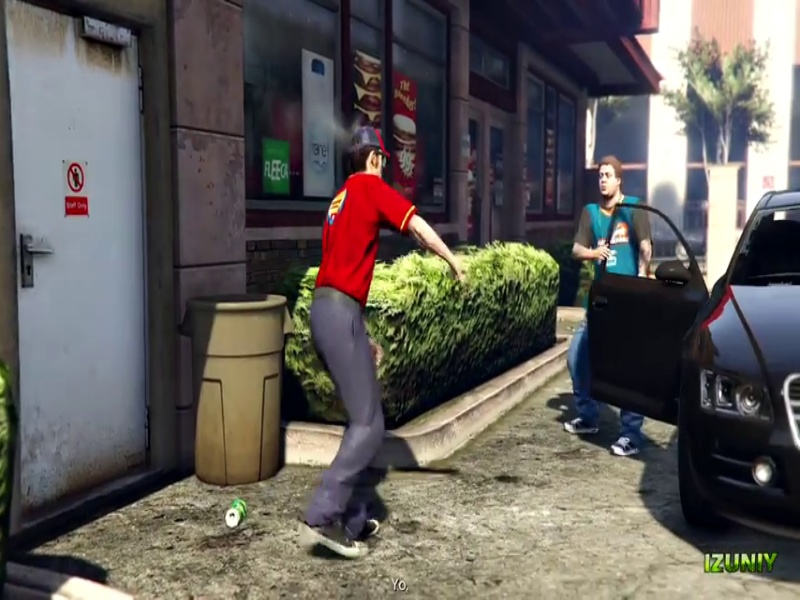human: (307, 135, 449, 525)
